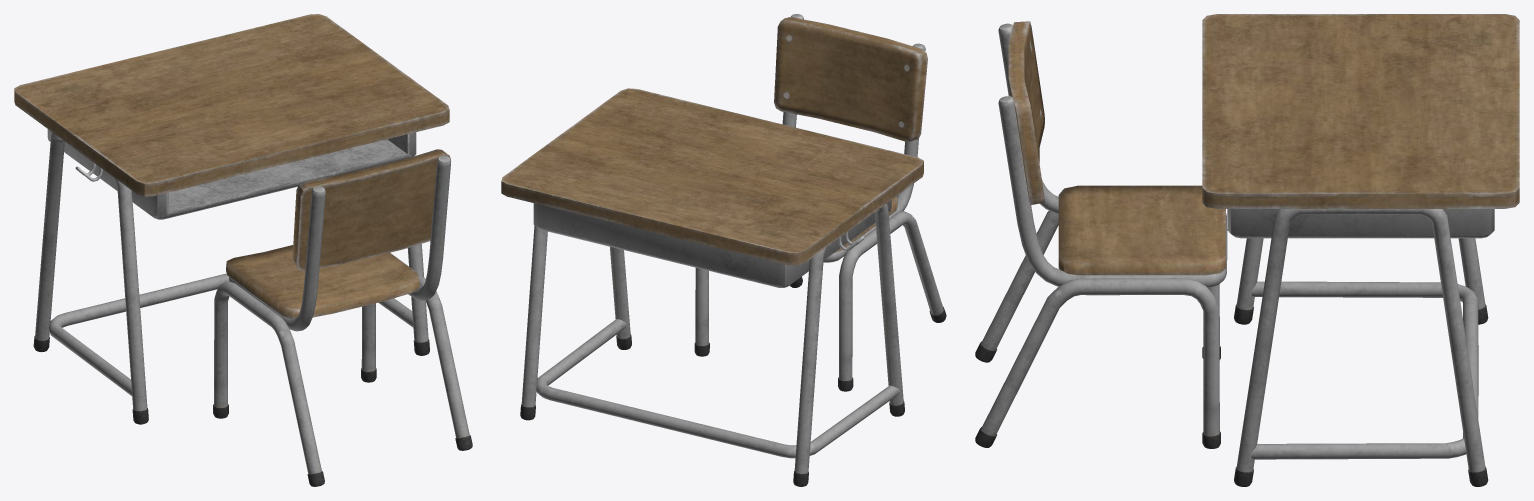
The model's file is studyDesk.glb.
3 renders of one model, left to right at view 1: azimuth 30°, elevation 25°; view 2: azimuth 150°, elevation 25°; view 3: azimuth 270°, elevation 25°, orthographic. The views are drawn at different scales.
Visible parts, largest first — view 1: TopDeskTable_low, Back_low, ChairLegs_low, Seat_low, Base_low; view 2: TopDeskTable_low, Back_low, ChairLegs_low, Base_low; view 3: TopDeskTable_low, Seat_low, ChairLegs_low, Base_low, Back_low.
Part boxes in pixels (x1,y1,x2,y2): TopDeskTable_low: [14, 14, 449, 424]; Back_low: [292, 149, 450, 271]; ChairLegs_low: [213, 253, 472, 486]; Seat_low: [226, 245, 419, 318]; Base_low: [229, 155, 451, 331]; TopDeskTable_low: [501, 88, 923, 486]; Back_low: [774, 17, 927, 141]; ChairLegs_low: [694, 211, 946, 391]; Base_low: [782, 14, 925, 262]; TopDeskTable_low: [1202, 14, 1519, 486]; Seat_low: [1058, 185, 1225, 275]; ChairLegs_low: [975, 210, 1220, 448]; Base_low: [998, 23, 1227, 287]; Back_low: [1008, 21, 1044, 205].
Bounding box in the file's own units: 1.08 × 0.9659 × 1.39.
1 material, 1 textured.
